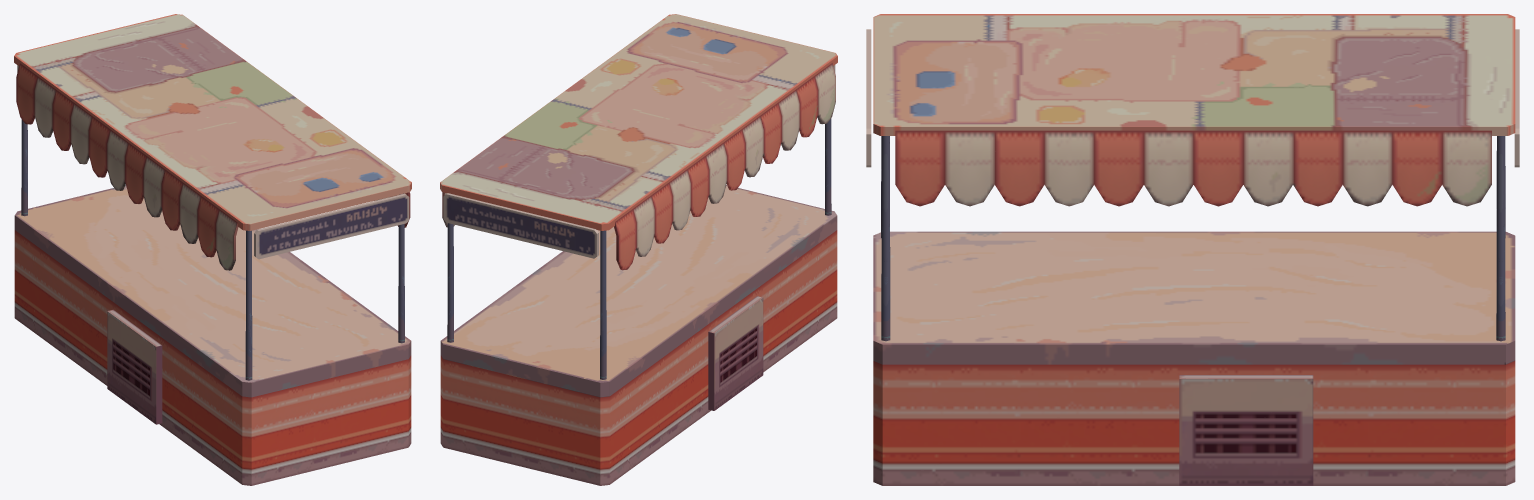
Rendered from Pixel_Misc_0016.fbx.
3 renders of one model, left to right at view 1: azimuth 30°, elevation 25°; view 2: azimuth 150°, elevation 25°; view 3: azimuth 270°, elevation 25°, orthographic. The views are drawn at different scales.
Visible parts, largest first — view 1: Pixel_Misc_0016; view 2: Pixel_Misc_0016; view 3: Pixel_Misc_0016.
Part boxes in pixels (x1,y1,x2,y2): Pixel_Misc_0016: (14, 14, 411, 485); Pixel_Misc_0016: (440, 14, 837, 485); Pixel_Misc_0016: (866, 14, 1519, 485).
Size of the model in its own units: 172 by 237 by 391.
